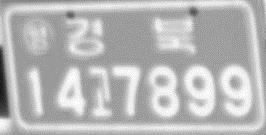1: (27, 66, 47, 118)
4: (56, 67, 87, 117)
7: (110, 64, 143, 117)
8: (148, 65, 180, 117)
9: (183, 65, 216, 118), (220, 65, 253, 118)
경북_D: (63, 16, 199, 58)
고: (87, 65, 115, 119)
영: (21, 18, 56, 56)
